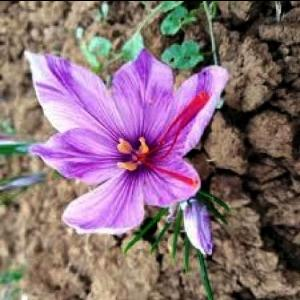Saffron: (28, 48, 230, 234)
